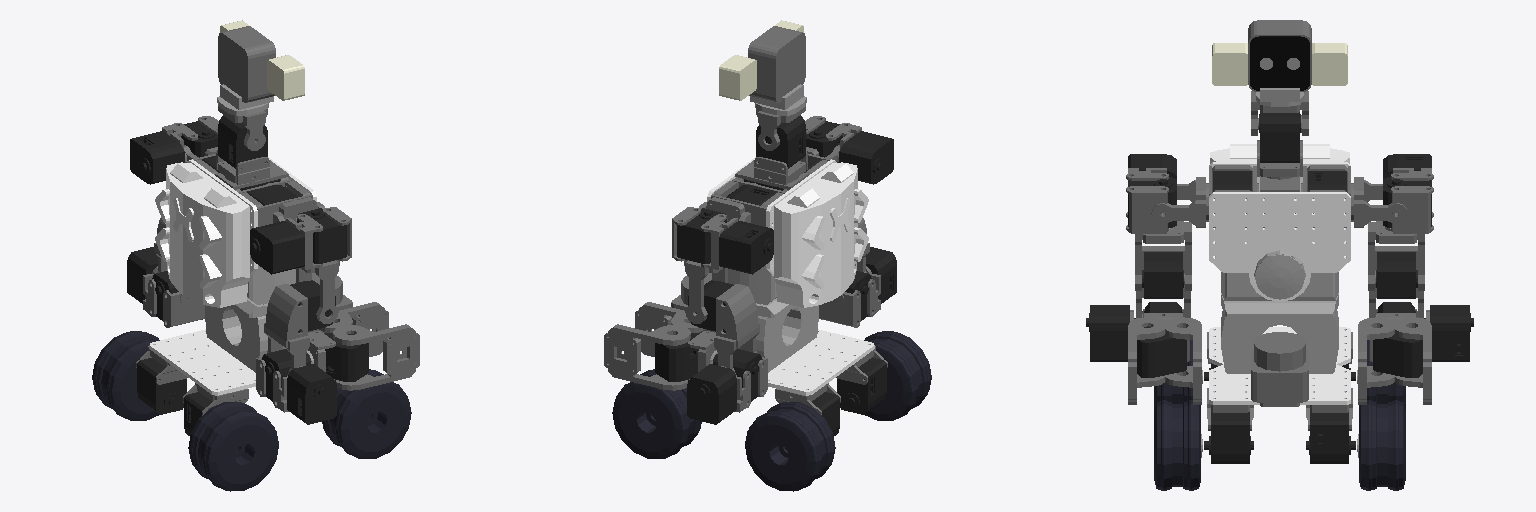
--- What the picture shows (computed from the rendered views, not written in the file) ---
The picture shows the robot from 3 angles, left to right: view 1: azimuth 30°, elevation 25°; view 2: azimuth 150°, elevation 25°; view 3: azimuth 270°, elevation 25°; orthographic projection.
Robot: kxrmw4a6h2m — 23 links, 22 joints (18 revolute, 4 continuous); root link bodyset94855827795112; default pose: all joints at 0.
Visible links, largest first — view 1: bodyset94855827795112, HEAD_LINK1, RLEG_LINK1, RARM_LINK1, RLEG_LINK0, RARM_LINK4, LLEG_LINK1, RARM_LINK3, LARM_LINK1, LARM_LINK4, RARM_LINK6, HEAD_LINK0 (+4 smaller); view 2: bodyset94855827795112, HEAD_LINK1, LLEG_LINK1, LARM_LINK1, LLEG_LINK0, LARM_LINK4, RLEG_LINK1, LARM_LINK3, RARM_LINK1, RARM_LINK4, LARM_LINK6, HEAD_LINK0 (+4 smaller); view 3: bodyset94855827795112, HEAD_LINK1, LLEG_LINK0, RLEG_LINK0, LARM_LINK1, RARM_LINK1, HEAD_LINK0, LARM_LINK4, RARM_LINK4, RARM_LINK3, LARM_LINK3, RARM_LINK5 (+11 smaller).
Link boxes in pixels (box(x1,y1,x2,y2)): bodyset94855827795112: box(136, 154, 352, 435); HEAD_LINK1: box(217, 20, 304, 150); RLEG_LINK1: box(188, 402, 278, 491); RARM_LINK1: box(250, 207, 351, 274); RLEG_LINK0: box(322, 369, 411, 458); RARM_LINK4: box(256, 349, 336, 424); LLEG_LINK1: box(92, 331, 159, 420); RARM_LINK3: box(264, 280, 335, 375); LARM_LINK1: box(130, 116, 218, 184); LARM_LINK4: box(127, 247, 204, 327); RARM_LINK6: box(333, 324, 419, 390); HEAD_LINK0: box(216, 115, 269, 184); bodyset94855827795112: box(671, 154, 887, 435); HEAD_LINK1: box(719, 20, 806, 150); LLEG_LINK1: box(745, 402, 835, 491); LARM_LINK1: box(672, 207, 773, 274); LLEG_LINK0: box(612, 369, 701, 458); LARM_LINK4: box(687, 349, 767, 424); RLEG_LINK1: box(864, 331, 931, 420); LARM_LINK3: box(688, 280, 759, 375); RARM_LINK1: box(805, 116, 893, 184); RARM_LINK4: box(819, 247, 896, 327); LARM_LINK6: box(604, 324, 690, 390); HEAD_LINK0: box(754, 115, 807, 184); bodyset94855827795112: box(1204, 144, 1355, 463); HEAD_LINK1: box(1212, 20, 1347, 135); LLEG_LINK0: box(1357, 400, 1405, 490); RLEG_LINK0: box(1154, 400, 1202, 490); LARM_LINK1: box(1383, 154, 1433, 233); RARM_LINK1: box(1126, 154, 1176, 233); HEAD_LINK0: box(1257, 112, 1302, 176); LARM_LINK4: box(1370, 302, 1473, 361); RARM_LINK4: box(1086, 302, 1189, 361); RARM_LINK3: box(1136, 246, 1190, 318); LARM_LINK3: box(1369, 246, 1423, 318); RARM_LINK5: box(1137, 313, 1186, 377).
Bounding box of the posed robot: 0.169 × 0.258 × 0.31 m (x, y, z).
Meshes: 23 distinct files referenced, 23 mesh visuals loaded (23 Collada DAE).

URDF robot description (kxrmw4a6h2m):
<?xml version="1.0"?>
<robot name="kxrmw4a6h2m"
       xmlns:xi="http://www.w3.org/2001/XInclude">
  <link name="bodyset94855827795112">
    <visual>
      <origin xyz="0.054 0 0.089" rpy="0 -0 0"/>
      <geometry>
        <mesh filename="package://kxr_models/meshes/kxrmw4a6h2m/bodyset94855827795112_mesh.dae" scale="1 1 1" />
      </geometry>
    </visual>
    <collision>
      <origin xyz="0.054 0 0.089" rpy="0 -0 0"/>
      <geometry>
        <mesh filename="package://kxr_models/meshes/kxrmw4a6h2m/bodyset94855827795112_mesh.dae" scale="1 1 1" />
      </geometry>
    </collision>
    <inertial>
      <mass value="0.671312" />
      <origin xyz="0.00124 1.38911e-10 0.02081" rpy="0 -0 0"/>
      <inertia ixx="0.001849" ixy="-8.30713e-06" ixz="-1.71308e-06" iyy="0.002122" iyz="1.45167e-06" izz="0.003179"/>
    </inertial>
  </link>
  <link name="HEAD_LINK0">
    <visual>
      <origin xyz="-0.00725 0 0.1065" rpy="0 -0 0"/>
      <geometry>
        <mesh filename="package://kxr_models/meshes/kxrmw4a6h2m/HEAD_LINK0_mesh.dae" scale="1 1 1" />
      </geometry>
    </visual>
    <collision>
      <origin xyz="-0.00725 0 0.1065" rpy="0 -0 0"/>
      <geometry>
        <mesh filename="package://kxr_models/meshes/kxrmw4a6h2m/HEAD_LINK0_mesh.dae" scale="1 1 1" />
      </geometry>
    </collision>
    <inertial>
      <mass value="0.037398" />
      <origin xyz="-1.73472e-18 1.22056e-18 0.023093" rpy="0 -0 0"/>
      <inertia ixx="8.69139e-05" ixy="-8.96373e-22" ixz="8.61164e-09" iyy="9.09972e-05" iyz="-5.25778e-09" izz="2.5436e-05"/>
    </inertial>
  </link>
  <link name="HEAD_LINK1">
    <visual>
      <origin xyz="0 0 0.036" rpy="0 -0 0"/>
      <geometry>
        <mesh filename="package://kxr_models/meshes/kxrmw4a6h2m/HEAD_LINK1_mesh.dae" scale="1 1 1" />
      </geometry>
    </visual>
    <collision>
      <origin xyz="0 0 0.036" rpy="0 -0 0"/>
      <geometry>
        <mesh filename="package://kxr_models/meshes/kxrmw4a6h2m/HEAD_LINK1_mesh.dae" scale="1 1 1" />
      </geometry>
    </collision>
    <inertial>
      <mass value="0.093045" />
      <origin xyz="-0.001016 3.60351e-18 0.186465" rpy="0 -0 0"/>
      <inertia ixx="0.000665" ixy="-1.79922e-07" ixz="-6.65543e-08" iyy="0.000652" iyz="-1.79583e-08" izz="0.000109"/>
    </inertial>
  </link>
  <link name="LARM_LINK0">
    <visual>
      <origin xyz="0.00725 0.0465 0.0915" rpy="0 -0 0"/>
      <geometry>
        <mesh filename="package://kxr_models/meshes/kxrmw4a6h2m/LARM_LINK0_mesh.dae" scale="1 1 1" />
      </geometry>
    </visual>
    <collision>
      <origin xyz="0.00725 0.0465 0.0915" rpy="0 -0 0"/>
      <geometry>
        <mesh filename="package://kxr_models/meshes/kxrmw4a6h2m/LARM_LINK0_mesh.dae" scale="1 1 1" />
      </geometry>
    </collision>
    <inertial>
      <mass value="0.011619" />
      <origin xyz="3.46945e-18 0 0.012925" rpy="0 -0 0"/>
      <inertia ixx="5.39175e-05" ixy="-2.05366e-09" ixz="1.93423e-09" iyy="4.02917e-05" iyz="2.68346e-09" izz="1.89272e-05"/>
    </inertial>
  </link>
  <link name="LARM_LINK1">
    <visual>
      <origin xyz="0 0.031 0" rpy="0 -0 0"/>
      <geometry>
        <mesh filename="package://kxr_models/meshes/kxrmw4a6h2m/LARM_LINK1_mesh.dae" scale="1 1 1" />
      </geometry>
    </visual>
    <collision>
      <origin xyz="0 0.031 0" rpy="0 -0 0"/>
      <geometry>
        <mesh filename="package://kxr_models/meshes/kxrmw4a6h2m/LARM_LINK1_mesh.dae" scale="1 1 1" />
      </geometry>
    </collision>
    <inertial>
      <mass value="0.078374" />
      <origin xyz="-0.013148 0.008556 0" rpy="0 -0 0"/>
      <inertia ixx="0.000103" ixy="-6.06237e-08" ixz="1.1156e-07" iyy="7.95871e-05" iyz="1.21718e-07" izz="8.07487e-05"/>
    </inertial>
  </link>
  <link name="LARM_LINK2">
    <visual>
      <origin xyz="0 0 -0.015" rpy="0 -0 0"/>
      <geometry>
        <mesh filename="package://kxr_models/meshes/kxrmw4a6h2m/LARM_LINK2_mesh.dae" scale="1 1 1" />
      </geometry>
    </visual>
    <collision>
      <origin xyz="0 0 -0.015" rpy="0 -0 0"/>
      <geometry>
        <mesh filename="package://kxr_models/meshes/kxrmw4a6h2m/LARM_LINK2_mesh.dae" scale="1 1 1" />
      </geometry>
    </collision>
    <inertial>
      <mass value="0.012939" />
      <origin xyz="1.73472e-18 0 0.016427" rpy="0 -0 0"/>
      <inertia ixx="5.11566e-05" ixy="-3.18804e-09" ixz="3.84132e-09" iyy="2.63088e-05" iyz="-4.7056e-09" izz="2.91052e-05"/>
    </inertial>
  </link>
  <link name="LARM_LINK3">
    <visual>
      <origin xyz="0 0 -0.041" rpy="0 -0 0"/>
      <geometry>
        <mesh filename="package://kxr_models/meshes/kxrmw4a6h2m/LARM_LINK3_mesh.dae" scale="1 1 1" />
      </geometry>
    </visual>
    <collision>
      <origin xyz="0 0 -0.041" rpy="0 -0 0"/>
      <geometry>
        <mesh filename="package://kxr_models/meshes/kxrmw4a6h2m/LARM_LINK3_mesh.dae" scale="1 1 1" />
      </geometry>
    </collision>
    <inertial>
      <mass value="0.05298" />
      <origin xyz="0.014792 0 -0.005477" rpy="0 -0 0"/>
      <inertia ixx="6.47415e-05" ixy="5.66051e-08" ixz="1.81382e-08" iyy="2.97799e-05" iyz="-6.74218e-07" izz="6.53223e-05"/>
    </inertial>
  </link>
  <link name="LARM_LINK4">
    <visual>
      <origin xyz="-0.0235 0 -0.043" rpy="0 -0 0"/>
      <geometry>
        <mesh filename="package://kxr_models/meshes/kxrmw4a6h2m/LARM_LINK4_mesh.dae" scale="1 1 1" />
      </geometry>
    </visual>
    <collision>
      <origin xyz="-0.0235 0 -0.043" rpy="0 -0 0"/>
      <geometry>
        <mesh filename="package://kxr_models/meshes/kxrmw4a6h2m/LARM_LINK4_mesh.dae" scale="1 1 1" />
      </geometry>
    </collision>
    <inertial>
      <mass value="0.078374" />
      <origin xyz="0 0.013148 -0.008556" rpy="0 -0 0"/>
      <inertia ixx="7.17934e-05" ixy="-6.06237e-08" ixz="1.1156e-07" iyy="4.70265e-05" iyz="1.21718e-07" izz="8.18295e-05"/>
    </inertial>
  </link>
  <link name="LARM_LINK5">
    <visual>
      <origin xyz="0.015 0 0" rpy="0 -0 0"/>
      <geometry>
        <mesh filename="package://kxr_models/meshes/kxrmw4a6h2m/LARM_LINK5_mesh.dae" scale="1 1 1" />
      </geometry>
    </visual>
    <collision>
      <origin xyz="0.015 0 0" rpy="0 -0 0"/>
      <geometry>
        <mesh filename="package://kxr_models/meshes/kxrmw4a6h2m/LARM_LINK5_mesh.dae" scale="1 1 1" />
      </geometry>
    </collision>
    <inertial>
      <mass value="0.042589" />
      <origin xyz="0.019552 0.079931 -0.0075" rpy="0 -0 0"/>
      <inertia ixx="5.5634e-05" ixy="-1.36549e-23" ixz="8.61164e-09" iyy="2.40999e-05" iyz="-5.25778e-09" izz="6.59873e-05"/>
    </inertial>
  </link>
  <link name="LARM_LINK6">
    <visual>
      <origin xyz="0.0315 0.0105 0" rpy="0 -0 0"/>
      <geometry>
        <mesh filename="package://kxr_models/meshes/kxrmw4a6h2m/LARM_LINK6_mesh.dae" scale="1 1 1" />
      </geometry>
    </visual>
    <collision>
      <origin xyz="0.0315 0.0105 0" rpy="0 -0 0"/>
      <geometry>
        <mesh filename="package://kxr_models/meshes/kxrmw4a6h2m/LARM_LINK6_mesh.dae" scale="1 1 1" />
      </geometry>
    </collision>
    <inertial>
      <mass value="0.013267" />
      <origin xyz="0.048523 0.016764 -1.12757e-17" rpy="0 -0 0"/>
      <inertia ixx="5.18229e-05" ixy="-2.54028e-09" ixz="-2.35822e-09" iyy="1.78472e-05" iyz="-1.52851e-07" izz="6.47415e-05"/>
    </inertial>
  </link>
  <link name="LARM_LINK7">
    <visual>
      <origin xyz="0.0315 -0.012979 0" rpy="0 -0 0"/>
      <geometry>
        <mesh filename="package://kxr_models/meshes/kxrmw4a6h2m/LARM_LINK7_mesh.dae" scale="1 1 1" />
      </geometry>
    </visual>
    <collision>
      <origin xyz="0.0315 -0.012979 0" rpy="0 -0 0"/>
      <geometry>
        <mesh filename="package://kxr_models/meshes/kxrmw4a6h2m/LARM_LINK7_mesh.dae" scale="1 1 1" />
      </geometry>
    </collision>
    <inertial>
      <mass value="0.013267" />
      <origin xyz="0.048523 -0.019242 1.12757e-17" rpy="0 -0 0"/>
      <inertia ixx="2.41808e-05" ixy="-2.54028e-09" ixz="-2.35822e-09" iyy="1.78472e-05" iyz="-1.52851e-07" izz="3.70994e-05"/>
    </inertial>
  </link>
  <link name="LLEG_LINK0">
    <visual>
      <origin xyz="0.054 0.048 -0.065" rpy="0 -0 0"/>
      <geometry>
        <mesh filename="package://kxr_models/meshes/kxrmw4a6h2m/LLEG_LINK0_mesh.dae" scale="1 1 1" />
      </geometry>
    </visual>
    <!-- <collision> -->
    <!--   <origin xyz="0.054 0.048 -0.065" rpy="0 -0 0"/> -->
    <!--   <geometry> -->
    <!--     <mesh filename="package://kxr_models/meshes/kxrmw4a6h2m/LLEG_LINK0_mesh.dae" scale="1 1 1" /> -->
    <!--   </geometry> -->
    <!-- </collision> -->

    <collision>
      <origin xyz="0.0 0.0 0.0" rpy="0.0 0.0 0.0"/>
      <geometry>
        <cylinder radius="0.04" length="0.02"/>
      </geometry>
    </collision>

    <inertial>
      <mass value="0.095024" />
      <origin xyz="-6.93889e-18 0.016915 0" rpy="0 -0 0"/>
      <inertia ixx="0.000174" ixy="5.92949e-22" ixz="5.05172e-20" iyy="0.000173" iyz="1.9762e-20" izz="0.000262"/>
    </inertial>
  </link>
  <link name="LLEG_LINK1">
    <visual>
      <origin xyz="-0.054 0.048 -0.065" rpy="0 -0 0"/>
      <geometry>
        <mesh filename="package://kxr_models/meshes/kxrmw4a6h2m/LLEG_LINK1_mesh.dae" scale="1 1 1" />
      </geometry>
    </visual>
    <!-- <collision> -->
    <!--   <origin xyz="-0.054 0.048 -0.065" rpy="0 -0 0"/> -->
    <!--   <geometry> -->
    <!--     <mesh filename="package://kxr_models/meshes/kxrmw4a6h2m/LLEG_LINK1_mesh.dae" scale="1 1 1" /> -->
    <!--   </geometry> -->
    <!-- </collision> -->

    <collision>
      <origin xyz="0.0 0.0 0.0" rpy="0.0 0.0 0.0"/>
      <geometry>
        <cylinder radius="0.04" length="0.02"/>
      </geometry>
    </collision>

    <inertial>
      <mass value="0.095024" />
      <origin xyz="-6.93889e-18 0.016915 0" rpy="0 -0 0"/>
      <inertia ixx="0.000174" ixy="5.92613e-22" ixz="5.04856e-20" iyy="0.000173" iyz="6.91669e-20" izz="0.000262"/>
    </inertial>
  </link>
  <link name="RARM_LINK0">
    <visual>
      <origin xyz="0.00725 -0.0465 0.0915" rpy="0 -0 0"/>
      <geometry>
        <mesh filename="package://kxr_models/meshes/kxrmw4a6h2m/RARM_LINK0_mesh.dae" scale="1 1 1" />
      </geometry>
    </visual>
    <collision>
      <origin xyz="0.00725 -0.0465 0.0915" rpy="0 -0 0"/>
      <geometry>
        <mesh filename="package://kxr_models/meshes/kxrmw4a6h2m/RARM_LINK0_mesh.dae" scale="1 1 1" />
      </geometry>
    </collision>
    <inertial>
      <mass value="0.011619" />
      <origin xyz="3.46945e-18 0 0.012925" rpy="0 -0 0"/>
      <inertia ixx="5.39175e-05" ixy="-2.05366e-09" ixz="1.93423e-09" iyy="4.02917e-05" iyz="2.68346e-09" izz="1.89272e-05"/>
    </inertial>
  </link>
  <link name="RARM_LINK1">
    <visual>
      <origin xyz="0 -0.031 0" rpy="0 -0 0"/>
      <geometry>
        <mesh filename="package://kxr_models/meshes/kxrmw4a6h2m/RARM_LINK1_mesh.dae" scale="1 1 1" />
      </geometry>
    </visual>
    <collision>
      <origin xyz="0 -0.031 0" rpy="0 -0 0"/>
      <geometry>
        <mesh filename="package://kxr_models/meshes/kxrmw4a6h2m/RARM_LINK1_mesh.dae" scale="1 1 1" />
      </geometry>
    </collision>
    <inertial>
      <mass value="0.078374" />
      <origin xyz="-0.013148 -0.008556 0" rpy="0 -0 0"/>
      <inertia ixx="0.000103" ixy="-6.06237e-08" ixz="1.1156e-07" iyy="7.95871e-05" iyz="1.21718e-07" izz="8.07487e-05"/>
    </inertial>
  </link>
  <link name="RARM_LINK2">
    <visual>
      <origin xyz="0 0 -0.015" rpy="0 -0 0"/>
      <geometry>
        <mesh filename="package://kxr_models/meshes/kxrmw4a6h2m/RARM_LINK2_mesh.dae" scale="1 1 1" />
      </geometry>
    </visual>
    <collision>
      <origin xyz="0 0 -0.015" rpy="0 -0 0"/>
      <geometry>
        <mesh filename="package://kxr_models/meshes/kxrmw4a6h2m/RARM_LINK2_mesh.dae" scale="1 1 1" />
      </geometry>
    </collision>
    <inertial>
      <mass value="0.012939" />
      <origin xyz="1.73472e-18 0 0.016427" rpy="0 -0 0"/>
      <inertia ixx="5.11566e-05" ixy="-3.18804e-09" ixz="3.84132e-09" iyy="2.63088e-05" iyz="-4.7056e-09" izz="2.91052e-05"/>
    </inertial>
  </link>
  <link name="RARM_LINK3">
    <visual>
      <origin xyz="0 0 -0.041" rpy="0 -0 0"/>
      <geometry>
        <mesh filename="package://kxr_models/meshes/kxrmw4a6h2m/RARM_LINK3_mesh.dae" scale="1 1 1" />
      </geometry>
    </visual>
    <collision>
      <origin xyz="0 0 -0.041" rpy="0 -0 0"/>
      <geometry>
        <mesh filename="package://kxr_models/meshes/kxrmw4a6h2m/RARM_LINK3_mesh.dae" scale="1 1 1" />
      </geometry>
    </collision>
    <inertial>
      <mass value="0.05298" />
      <origin xyz="0.014792 0 -0.005477" rpy="0 -0 0"/>
      <inertia ixx="6.47415e-05" ixy="5.66051e-08" ixz="1.81382e-08" iyy="2.97799e-05" iyz="-6.74218e-07" izz="6.53223e-05"/>
    </inertial>
  </link>
  <link name="RARM_LINK4">
    <visual>
      <origin xyz="-0.0235 0 -0.043" rpy="0 -0 0"/>
      <geometry>
        <mesh filename="package://kxr_models/meshes/kxrmw4a6h2m/RARM_LINK4_mesh.dae" scale="1 1 1" />
      </geometry>
    </visual>
    <collision>
      <origin xyz="-0.0235 0 -0.043" rpy="0 -0 0"/>
      <geometry>
        <mesh filename="package://kxr_models/meshes/kxrmw4a6h2m/RARM_LINK4_mesh.dae" scale="1 1 1" />
      </geometry>
    </collision>
    <inertial>
      <mass value="0.078374" />
      <origin xyz="0 -0.013148 -0.008556" rpy="0 -0 0"/>
      <inertia ixx="7.17934e-05" ixy="-6.06237e-08" ixz="1.1156e-07" iyy="4.70265e-05" iyz="1.21718e-07" izz="8.18295e-05"/>
    </inertial>
  </link>
  <link name="RARM_LINK5">
    <visual>
      <origin xyz="0.015 0 0" rpy="0 -0 0"/>
      <geometry>
        <mesh filename="package://kxr_models/meshes/kxrmw4a6h2m/RARM_LINK5_mesh.dae" scale="1 1 1" />
      </geometry>
    </visual>
    <collision>
      <origin xyz="0.015 0 0" rpy="0 -0 0"/>
      <geometry>
        <mesh filename="package://kxr_models/meshes/kxrmw4a6h2m/RARM_LINK5_mesh.dae" scale="1 1 1" />
      </geometry>
    </collision>
    <inertial>
      <mass value="0.042589" />
      <origin xyz="0.019552 -0.079931 -0.0075" rpy="0 -0 0"/>
      <inertia ixx="5.5634e-05" ixy="-1.36549e-23" ixz="8.61164e-09" iyy="2.40999e-05" iyz="-5.25778e-09" izz="6.59873e-05"/>
    </inertial>
  </link>
  <link name="RARM_LINK6">
    <visual>
      <origin xyz="0.0315 -0.0105 0" rpy="0 -0 0"/>
      <geometry>
        <mesh filename="package://kxr_models/meshes/kxrmw4a6h2m/RARM_LINK6_mesh.dae" scale="1 1 1" />
      </geometry>
    </visual>
    <collision>
      <origin xyz="0.0315 -0.0105 0" rpy="0 -0 0"/>
      <geometry>
        <mesh filename="package://kxr_models/meshes/kxrmw4a6h2m/RARM_LINK6_mesh.dae" scale="1 1 1" />
      </geometry>
    </collision>
    <inertial>
      <mass value="0.013267" />
      <origin xyz="0.048523 -0.016764 8.67362e-18" rpy="0 -0 0"/>
      <inertia ixx="5.18229e-05" ixy="-2.54028e-09" ixz="-2.35822e-09" iyy="1.78472e-05" iyz="-1.52851e-07" izz="6.47415e-05"/>
    </inertial>
  </link>
  <link name="RARM_LINK7">
    <visual>
      <origin xyz="0.0315 0.012979 0" rpy="0 -0 0"/>
      <geometry>
        <mesh filename="package://kxr_models/meshes/kxrmw4a6h2m/RARM_LINK7_mesh.dae" scale="1 1 1" />
      </geometry>
    </visual>
    <collision>
      <origin xyz="0.0315 0.012979 0" rpy="0 -0 0"/>
      <geometry>
        <mesh filename="package://kxr_models/meshes/kxrmw4a6h2m/RARM_LINK7_mesh.dae" scale="1 1 1" />
      </geometry>
    </collision>
    <inertial>
      <mass value="0.013267" />
      <origin xyz="0.048523 0.019242 1.56125e-17" rpy="0 -0 0"/>
      <inertia ixx="2.41808e-05" ixy="-2.54028e-09" ixz="-2.35822e-09" iyy="1.78472e-05" iyz="-1.52851e-07" izz="3.70994e-05"/>
    </inertial>
  </link>
  <link name="RLEG_LINK0">
    <visual>
      <origin xyz="0.054 -0.048 -0.065" rpy="0 -0 0"/>
      <geometry>
        <mesh filename="package://kxr_models/meshes/kxrmw4a6h2m/RLEG_LINK0_mesh.dae" scale="1 1 1" />
      </geometry>
    </visual>
    <!-- <collision> -->
    <!--   <origin xyz="0.054 -0.048 -0.065" rpy="0 -0 0"/> -->
    <!--   <geometry> -->
    <!--     <mesh filename="package://kxr_models/meshes/kxrmw4a6h2m/RLEG_LINK0_mesh.dae" scale="1 1 1" /> -->
    <!--   </geometry> -->
    <!-- </collision> -->

    <collision>
      <origin xyz="0.0 0.0 0.0" rpy="0.0 0.0 0.0"/>
      <geometry>
        <cylinder radius="0.04" length="0.02"/>
      </geometry>
    </collision>

    <inertial>
      <mass value="0.095024" />
      <origin xyz="-6.93889e-18 0.016915 0" rpy="0 -0 0"/>
      <inertia ixx="0.000174" ixy="5.9261e-22" ixz="5.04911e-20" iyy="0.000173" iyz="-1.9762e-20" izz="0.000262"/>
    </inertial>
  </link>
  <link name="RLEG_LINK1">
    <visual>
      <origin xyz="-0.054 -0.048 -0.065" rpy="0 -0 0"/>
      <geometry>
        <mesh filename="package://kxr_models/meshes/kxrmw4a6h2m/RLEG_LINK1_mesh.dae" scale="1 1 1" />
      </geometry>
    </visual>
    <!-- <collision> -->
    <!--   <origin xyz="-0.054 -0.048 -0.065" rpy="0 -0 0"/> -->
    <!--   <geometry> -->
    <!--     <mesh filename="package://kxr_models/meshes/kxrmw4a6h2m/RLEG_LINK1_mesh.dae" scale="1 1 1" /> -->
    <!--   </geometry> -->
    <!-- </collision> -->

    <collision>
      <origin xyz="0.0 0.0 0.0" rpy="0.0 0.0 0.0"/>
      <geometry>
        <cylinder radius="0.04" length="0.02"/>
      </geometry>
    </collision>

    <inertial>
      <mass value="0.095024" />
      <origin xyz="-6.93889e-18 0.016915 0" rpy="0 -0 0"/>
      <inertia ixx="0.000174" ixy="5.93143e-22" ixz="5.05395e-20" iyy="0.000173" iyz="-3.95239e-20" izz="0.000262"/>
    </inertial>
  </link>
  <joint name="HEAD_JOINT0" type="revolute">
    <parent link="bodyset94855827795112"/>
    <child  link="HEAD_LINK0"/>
    <origin xyz="-0.00725 0 0.1065" rpy="0 -0 0 "/>
    <axis   xyz="0 0 -1"/>
    <limit lower="-2.96706" upper="2.96706" effort="0.656248" velocity="7.47998" />
    <dynamics damping="0.2" friction="0" />
  </joint>
  <joint name="HEAD_JOINT1" type="revolute">
    <parent link="HEAD_LINK0"/>
    <child  link="HEAD_LINK1"/>
    <origin xyz="0 0 0.036" rpy="0 -0 0 "/>
    <axis   xyz="0 -1 0"/>
    <limit lower="-2.0944" upper="2.0944" effort="0.656248" velocity="7.47998" />
    <dynamics damping="0.2" friction="0" />
  </joint>
  <joint name="LARM_JOINT0" type="revolute">
    <parent link="bodyset94855827795112"/>
    <child  link="LARM_LINK0"/>
    <origin xyz="0.00725 0.0465 0.0915" rpy="0 -0 0 "/>
    <axis   xyz="0 -1 0"/>
    <limit lower="-3.14159" upper="3.14159" effort="0.656248" velocity="7.47998" />
    <dynamics damping="0.2" friction="0" />
  </joint>
  <joint name="LARM_JOINT1" type="revolute">
    <parent link="LARM_LINK0"/>
    <child  link="LARM_LINK1"/>
    <origin xyz="0 0.031 0" rpy="0 -0 0 "/>
    <axis   xyz="1 0 0"/>
    <limit lower="-1.91986" upper="1.91986" effort="0.656248" velocity="7.47998" />
    <dynamics damping="0.2" friction="0" />
  </joint>
  <joint name="LARM_JOINT2" type="revolute">
    <parent link="LARM_LINK1"/>
    <child  link="LARM_LINK2"/>
    <origin xyz="0 0 -0.015" rpy="0 -0 0 "/>
    <axis   xyz="0 0 1"/>
    <limit lower="-2.35619" upper="2.35619" effort="0.656248" velocity="7.47998" />
    <dynamics damping="0.2" friction="0" />
  </joint>
  <joint name="LARM_JOINT3" type="revolute">
    <parent link="LARM_LINK2"/>
    <child  link="LARM_LINK3"/>
    <origin xyz="0 0 -0.041" rpy="0 -0 0 "/>
    <axis   xyz="0 1 0"/>
    <limit lower="-2.96706" upper="2.96706" effort="0.656248" velocity="7.47998" />
    <dynamics damping="0.2" friction="0" />
  </joint>
  <joint name="LARM_JOINT4" type="revolute">
    <parent link="LARM_LINK3"/>
    <child  link="LARM_LINK4"/>
    <origin xyz="-0.0235 0 -0.043" rpy="0 -0 0 "/>
    <axis   xyz="0 -1 0"/>
    <limit lower="-2.18166" upper="1.74533" effort="0.656248" velocity="7.47998" />
    <dynamics damping="0.2" friction="0" />
  </joint>
  <joint name="LARM_JOINT5" type="revolute">
    <parent link="LARM_LINK4"/>
    <child  link="LARM_LINK5"/>
    <origin xyz="0.015 0 0" rpy="0 -0 0 "/>
    <axis   xyz="-1 0 0"/>
    <limit lower="-2.35619" upper="2.35619" effort="0.656248" velocity="7.47998" />
    <dynamics damping="0.2" friction="0" />
  </joint>
  <joint name="LARM_JOINT6" type="revolute">
    <parent link="LARM_LINK5"/>
    <child  link="LARM_LINK6"/>
    <origin xyz="0.0315 0.0105 0" rpy="0 -0 0 "/>
    <axis   xyz="2.22045e-16 0 1"/>
    <limit lower="-1.74533" upper="1.74533" effort="0.656248" velocity="7.47998" />
    <dynamics damping="0.2" friction="0" />
  </joint>
  <joint name="LARM_JOINT7" type="revolute">
    <parent link="LARM_LINK5"/>
    <child  link="LARM_LINK7"/>
    <origin xyz="0.0315 -0.012979 0" rpy="0 -0 0 "/>
    <axis   xyz="0 0 -1"/>
    <limit lower="-1.74533" upper="1.74533" effort="0.656248" velocity="7.47998" />
    <dynamics damping="0.2" friction="0" />
  </joint>
  <joint name="LLEG_JOINT0" type="continuous">
    <parent link="bodyset94855827795112"/>
    <child  link="LLEG_LINK0"/>
    <origin xyz="0.054 0.048 -0.065" rpy="0 -0 0 "/>
    <axis   xyz="0 1 0"/>
    <limit lower="-1745.33" upper="1745.33" effort="0.656248" velocity="7.47998" />
    <dynamics damping="0.2" friction="0" />
  </joint>
  <joint name="LLEG_JOINT1" type="continuous">
    <parent link="bodyset94855827795112"/>
    <child  link="LLEG_LINK1"/>
    <origin xyz="-0.054 0.048 -0.065" rpy="0 -0 0 "/>
    <axis   xyz="0 1 0"/>
    <limit lower="-1745.33" upper="1745.33" effort="0.656248" velocity="7.47998" />
    <dynamics damping="0.2" friction="0" />
  </joint>
  <joint name="RARM_JOINT0" type="revolute">
    <parent link="bodyset94855827795112"/>
    <child  link="RARM_LINK0"/>
    <origin xyz="0.00725 -0.0465 0.0915" rpy="0 -0 0 "/>
    <axis   xyz="0 1 0"/>
    <limit lower="-3.14159" upper="3.14159" effort="0.656248" velocity="7.47998" />
    <dynamics damping="0.2" friction="0" />
  </joint>
  <joint name="RARM_JOINT1" type="revolute">
    <parent link="RARM_LINK0"/>
    <child  link="RARM_LINK1"/>
    <origin xyz="0 -0.031 0" rpy="0 -0 0 "/>
    <axis   xyz="1 0 0"/>
    <limit lower="-1.91986" upper="1.91986" effort="0.656248" velocity="7.47998" />
    <dynamics damping="0.2" friction="0" />
  </joint>
  <joint name="RARM_JOINT2" type="revolute">
    <parent link="RARM_LINK1"/>
    <child  link="RARM_LINK2"/>
    <origin xyz="0 0 -0.015" rpy="0 -0 0 "/>
    <axis   xyz="0 0 1"/>
    <limit lower="-2.35619" upper="2.35619" effort="0.656248" velocity="7.47998" />
    <dynamics damping="0.2" friction="0" />
  </joint>
  <joint name="RARM_JOINT3" type="revolute">
    <parent link="RARM_LINK2"/>
    <child  link="RARM_LINK3"/>
    <origin xyz="0 0 -0.041" rpy="0 -0 0 "/>
    <axis   xyz="0 1 0"/>
    <limit lower="-2.96706" upper="2.96706" effort="0.656248" velocity="7.47998" />
    <dynamics damping="0.2" friction="0" />
  </joint>
  <joint name="RARM_JOINT4" type="revolute">
    <parent link="RARM_LINK3"/>
    <child  link="RARM_LINK4"/>
    <origin xyz="-0.0235 0 -0.043" rpy="0 -0 0 "/>
    <axis   xyz="0 1 0"/>
    <limit lower="-2.18166" upper="1.74533" effort="0.656248" velocity="7.47998" />
    <dynamics damping="0.2" friction="0" />
  </joint>
  <joint name="RARM_JOINT5" type="revolute">
    <parent link="RARM_LINK4"/>
    <child  link="RARM_LINK5"/>
    <origin xyz="0.015 0 0" rpy="0 -0 0 "/>
    <axis   xyz="-1 0 0"/>
    <limit lower="-2.35619" upper="2.35619" effort="0.656248" velocity="7.47998" />
    <dynamics damping="0.2" friction="0" />
  </joint>
  <joint name="RARM_JOINT6" type="revolute">
    <parent link="RARM_LINK5"/>
    <child  link="RARM_LINK6"/>
    <origin xyz="0.0315 -0.0105 0" rpy="0 -0 0 "/>
    <axis   xyz="0 0 -1"/>
    <limit lower="-1.74533" upper="1.74533" effort="0.656248" velocity="7.47998" />
    <dynamics damping="0.2" friction="0" />
  </joint>
  <joint name="RARM_JOINT7" type="revolute">
    <parent link="RARM_LINK5"/>
    <child  link="RARM_LINK7"/>
    <origin xyz="0.0315 0.012979 0" rpy="0 -0 0 "/>
    <axis   xyz="4.44089e-16 0 1"/>
    <limit lower="-1.74533" upper="1.74533" effort="0.656248" velocity="7.47998" />
    <dynamics damping="0.2" friction="0" />
  </joint>
  <joint name="RLEG_JOINT0" type="continuous">
    <parent link="bodyset94855827795112"/>
    <child  link="RLEG_LINK0"/>
    <origin xyz="0.054 -0.048 -0.065" rpy="0 -0 0 "/>
    <axis   xyz="0 1 0"/>
    <limit lower="-1745.33" upper="1745.33" effort="0.656248" velocity="7.47998" />
    <dynamics damping="0.2" friction="0" />
  </joint>
  <joint name="RLEG_JOINT1" type="continuous">
    <parent link="bodyset94855827795112"/>
    <child  link="RLEG_LINK1"/>
    <origin xyz="-0.054 -0.048 -0.065" rpy="0 -0 0 "/>
    <axis   xyz="0 1 0"/>
    <limit lower="-1745.33" upper="1745.33" effort="0.656248" velocity="7.47998" />
    <dynamics damping="0.2" friction="0" />
  </joint>
</robot>
